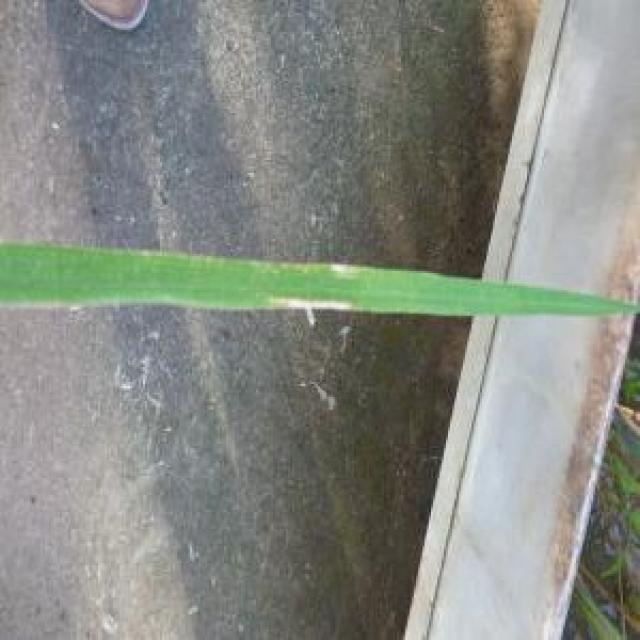leaf blight: (260, 264, 382, 314)
